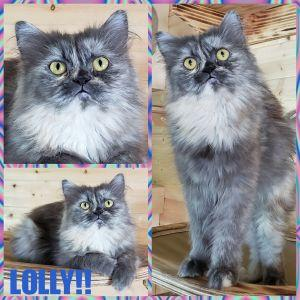persian: (11, 6, 145, 129)
